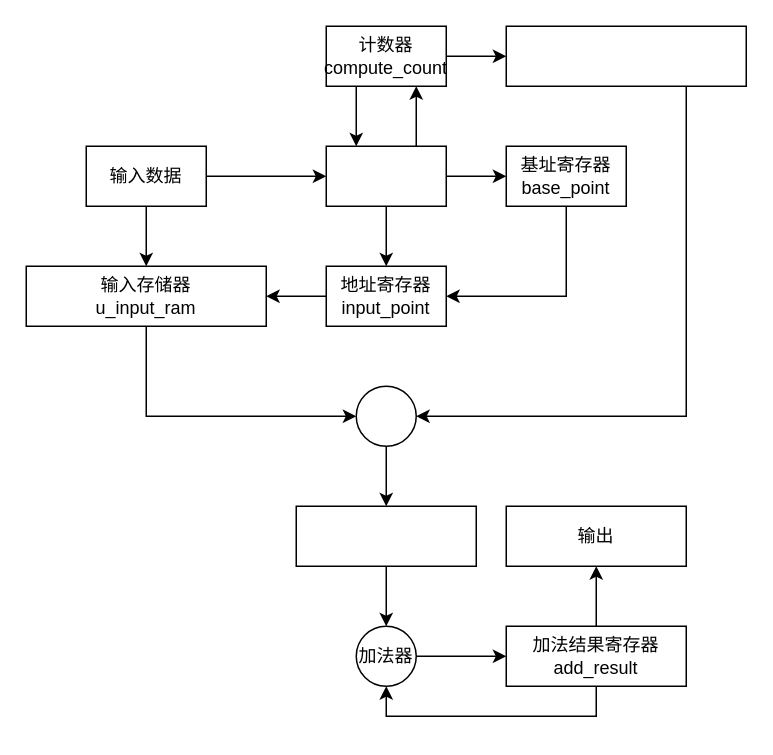
The diagram is 773 pixels wide and 755 high, and some of its shapes have lost their labels. The shapes that lost their labels are listed below. From the top down, each one's centre as x and y in pixels, then its label:
At pixel 625 55: "权值存储器 u_input_ram".
At pixel 385 175: "状态机 mode".
At pixel 385 415: "乘法器".
At pixel 385 535: "乘法结果寄存器 mul_result".
